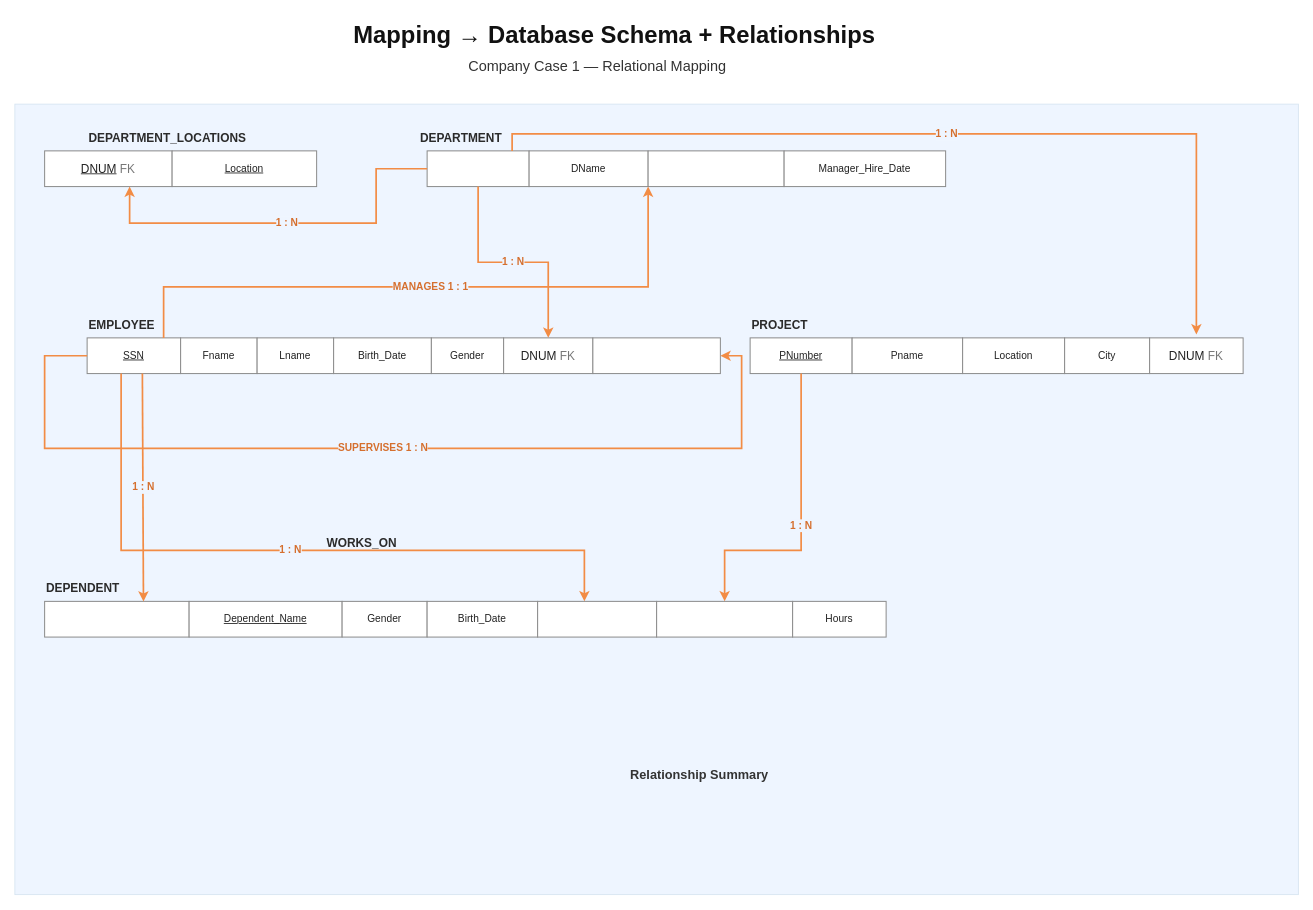
Some shapes in this 1313 by 910 pixel diagram are drawn without their labels. Here are the shapes that lost their labels. From the top down, the centre of each, then its label:
pixel 477 168: DNUM
pixel 715 168: Manager_SSN FK
pixel 656 355: Supervisor_SSN FK
pixel 116 618: Employee_SSN FK
pixel 597 618: SSN FK
pixel 724 618: PNumber FK
